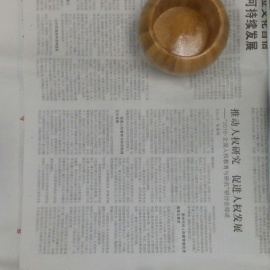chess: (137, 1, 229, 75)
